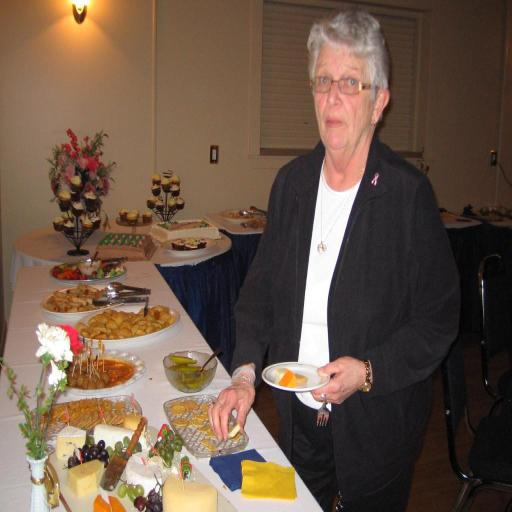Person: (166, 50, 487, 452)
no_gloves: (318, 321, 372, 383), (208, 340, 262, 402)
no_goggle: (304, 119, 383, 136)
no_helmet: (298, 66, 394, 116)
none: (266, 172, 425, 360)
